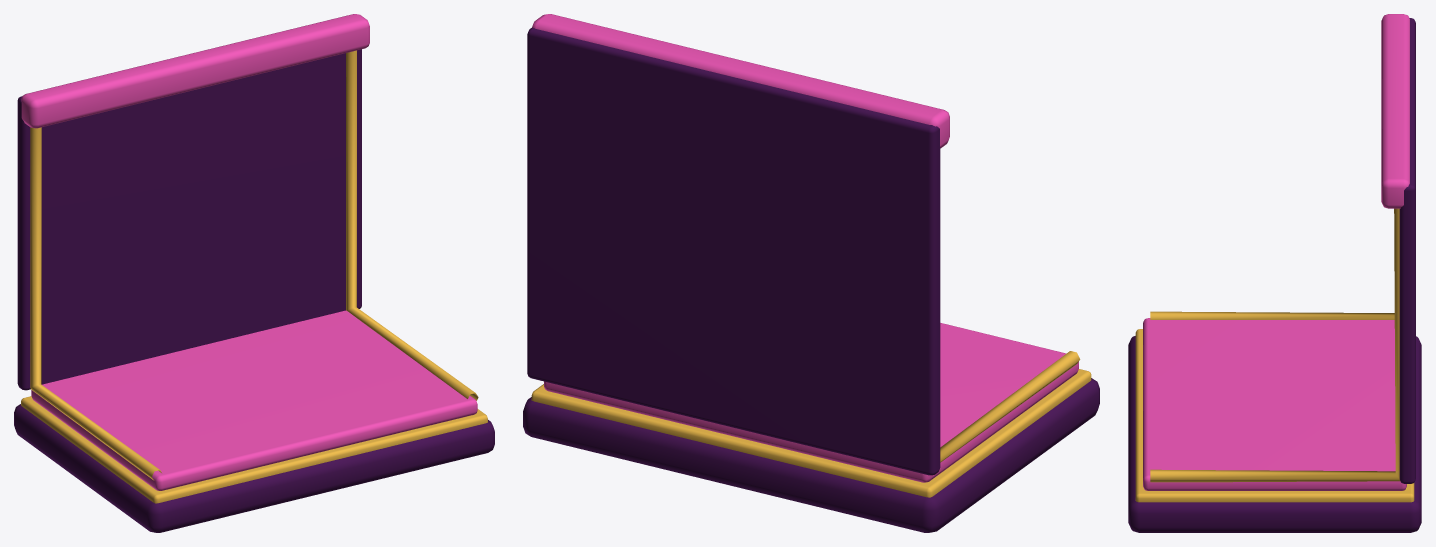
The model's file is kart-plinth.glb.
3 renders of one model, left to right at view 1: azimuth 30°, elevation 25°; view 2: azimuth 150°, elevation 25°; view 3: azimuth 270°, elevation 25°, orthographic. The views are drawn at different scales.
Parts seen in each view (by area): view 1: box_back, display_top, display_base, box_header, brass_band, box_corner, box_corner.001; view 2: box_back, display_base, display_top, brass_band, box_header, box_corner; view 3: display_top, display_base, box_back, box_header, brass_band, box_corner.001, box_corner.
Boxes of the visible parts, x1,y1,x2,y2 form: box_back: (17,49,361,390); display_top: (31,310,477,490); display_base: (14,404,494,532); box_header: (21,14,369,128); brass_band: (21,396,487,503); box_corner: (30,127,161,480); box_corner.001: (346,50,478,400); box_back: (527,28,940,475); display_base: (523,378,1099,532); display_top: (544,323,1078,482); brass_band: (531,369,1091,497); box_header: (532,14,949,148); box_corner: (940,351,1080,462); display_top: (1143,318,1406,490); display_base: (1128,336,1421,532); box_back: (1399,18,1415,483); box_header: (1381,14,1409,208); brass_band: (1135,329,1414,502); box_corner.001: (1150,208,1400,482); box_corner: (1150,311,1394,319).
Bounding box in the file's own units: 0.56 × 0.5325 × 0.4.
